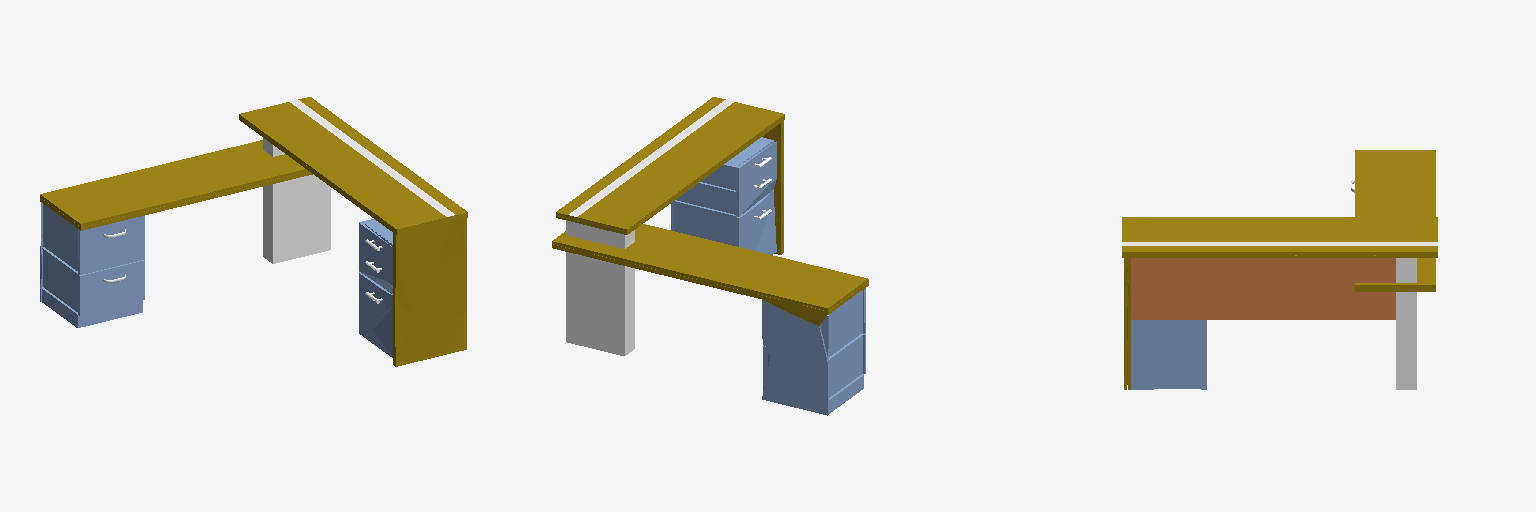
The model's file is escrivaninha.obj.
3 views of the same model, side by side, from view 1: azimuth 30°, elevation 25°; view 2: azimuth 150°, elevation 25°; view 3: azimuth 270°, elevation 25° (orthographic).
Visible parts, largest first — view 1: Object.1; view 2: Object.1; view 3: Object.1.
Part boxes in pixels (bbox=[...]): Object.1: bbox=[40, 97, 467, 366]; Object.1: bbox=[552, 97, 868, 415]; Object.1: bbox=[1122, 150, 1437, 389].
Bounding box in the file's own units: 83.97 × 40.2 × 83.22.